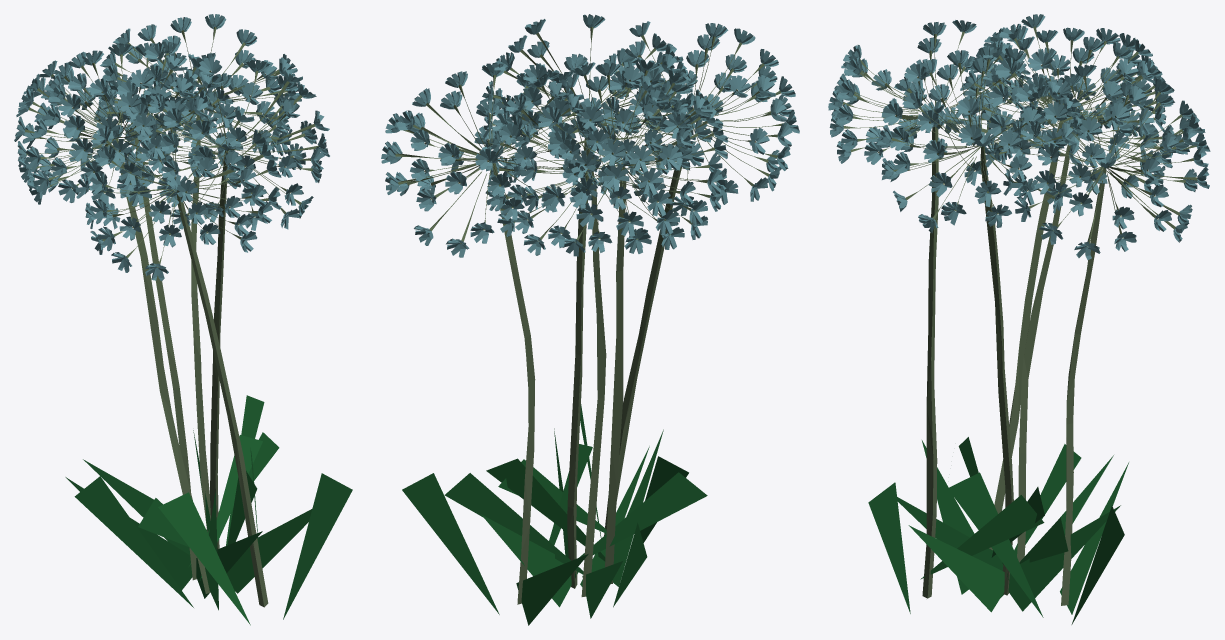
Rendered from AfricanLily.fbx.
The picture shows the model from 3 angles, left to right: view 1: azimuth 30°, elevation 25°; view 2: azimuth 150°, elevation 25°; view 3: azimuth 270°, elevation 25°; orthographic projection. The views are drawn at different scales.
Visible parts, largest first — view 1: africanLily1Flower, africanLily1Main, africanLily1Leaf; view 2: africanLily1Flower, africanLily1Main, africanLily1Leaf; view 3: africanLily1Flower, africanLily1Main, africanLily1Leaf.
Boxes of the visible parts, x1,y1,x2,y2 form: africanLily1Flower: (14,14,329,281); africanLily1Main: (25,27,318,607); africanLily1Leaf: (65,395,352,625); africanLily1Flower: (381,14,799,257); africanLily1Main: (395,27,783,604); africanLily1Leaf: (402,404,707,625); africanLily1Flower: (828,14,1210,259); africanLily1Main: (842,26,1197,605); africanLily1Leaf: (868,437,1128,624).
Bounding box in the file's own units: 0.7329 × 1.33 × 0.8408.
